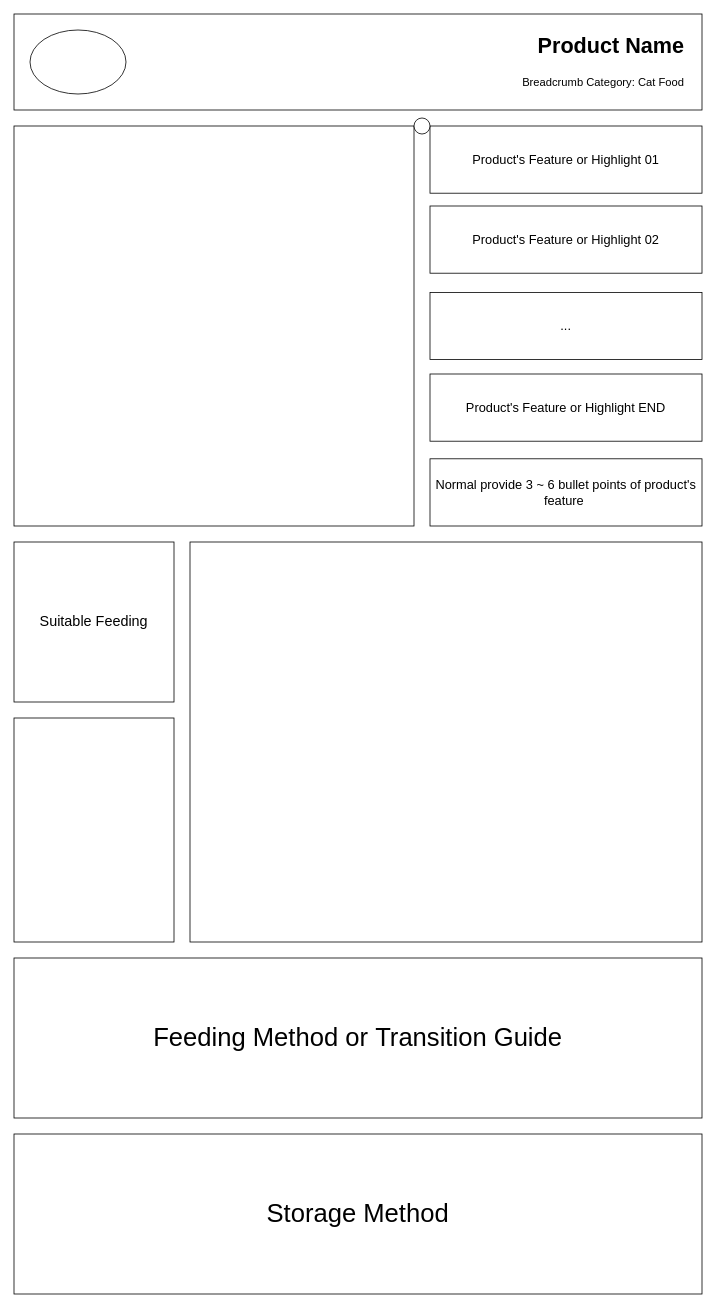
Image size: 716x1308. Some labels were removed from this diagram. The shapes that lost their labels are listed below. From the top down, each one's centre as x and y in pixels, then its label:
At point (77, 61): "Brand Logo".
At point (213, 325): "Product Picture".
At point (445, 741): "Nutrition List: - Ingredients - Guaranteed Analysis".
At point (93, 829): "Feeding Description,".
